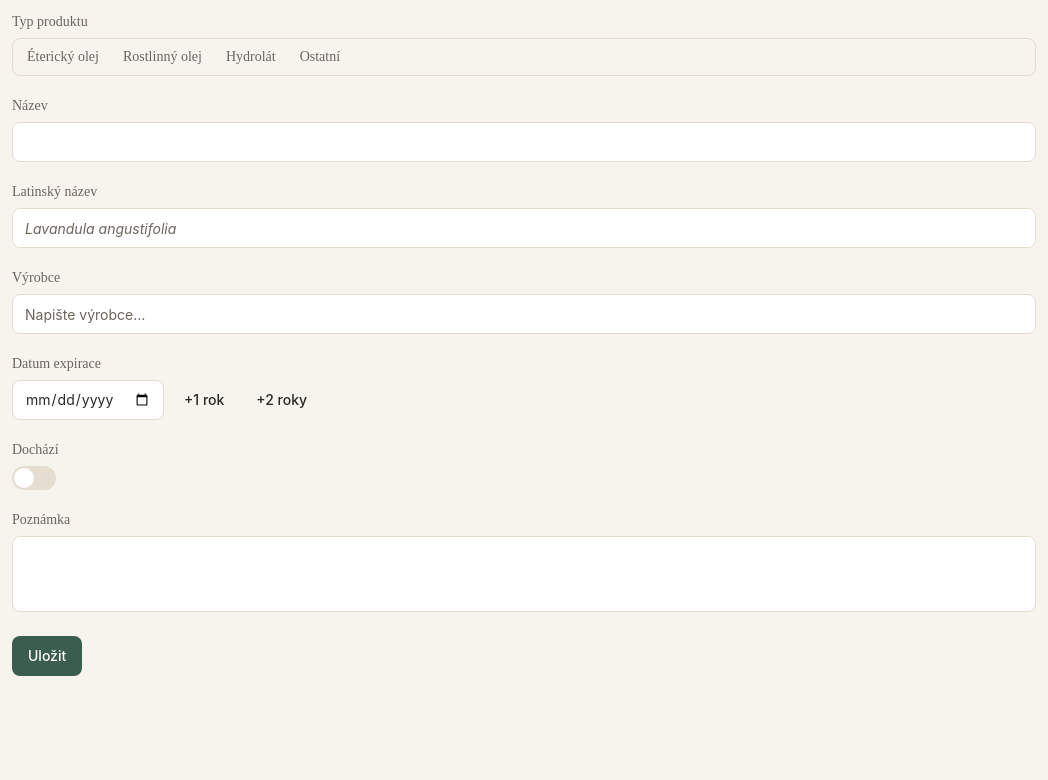
Scenario: OilForm › the "+1 rok" chip fills the expiry date
What coordinates should you click on to do the following:
click the button "+1 rok"
I would click on:
 (204, 400)
Its box is [172,384,236,416].
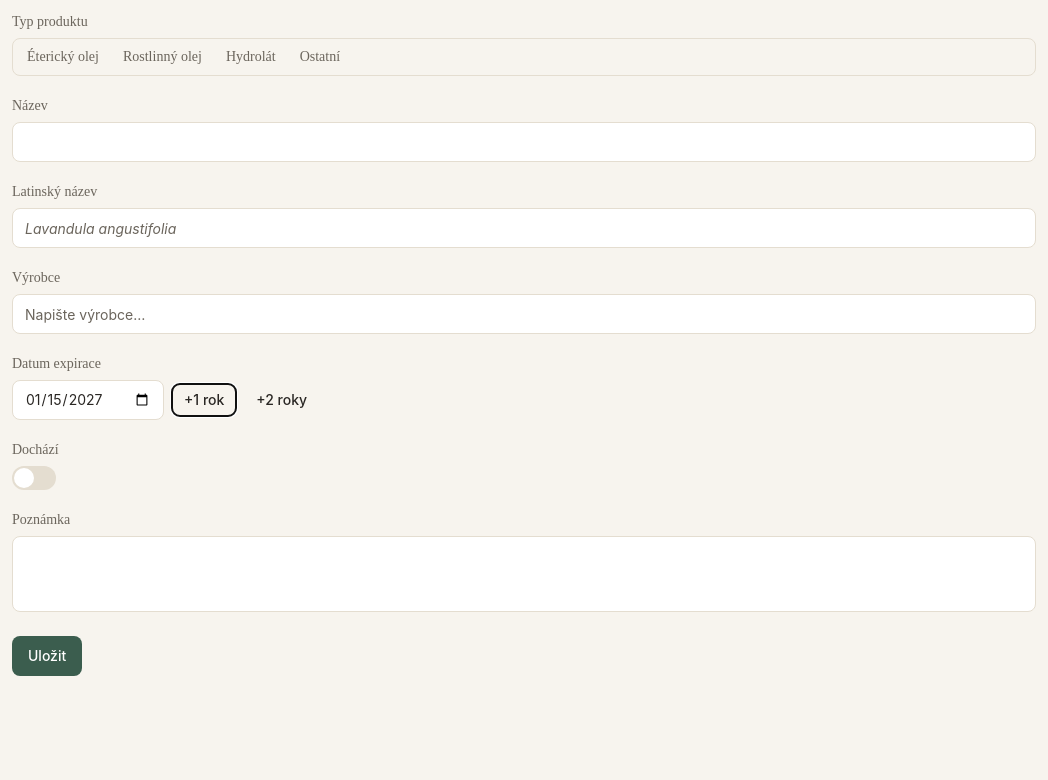
Result: the date field labelled "Datum expirace" holds "2027-01-15" at [12,380,164,420]
